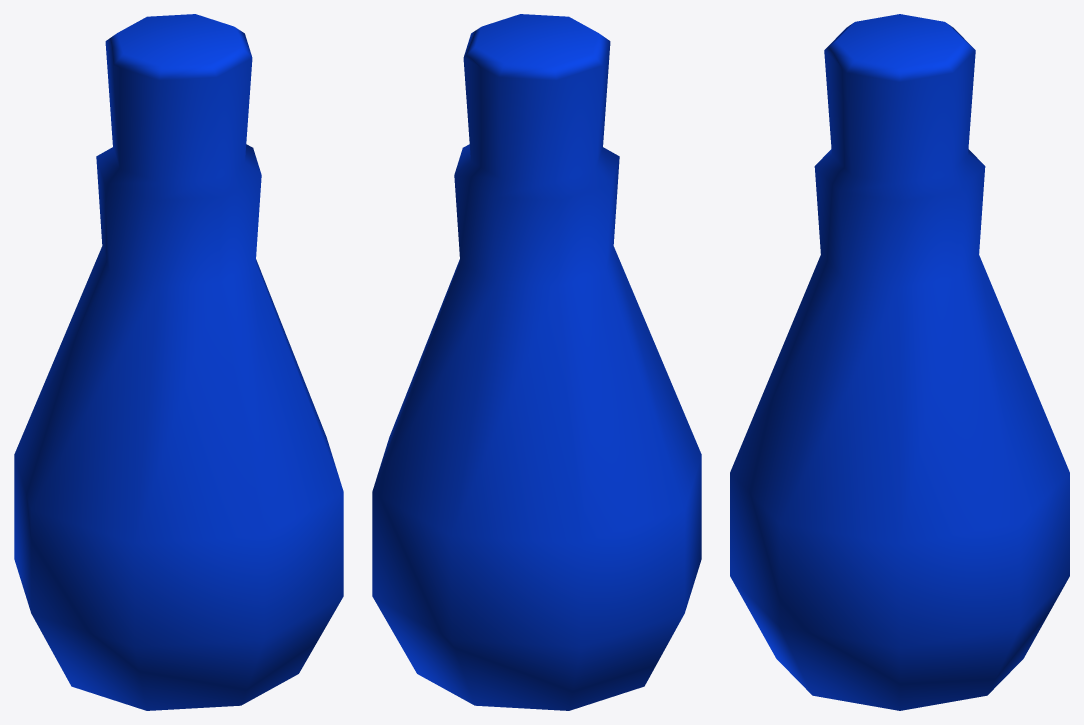
The model's file is Potion_04.fbx.
3 renders of one model, left to right at view 1: azimuth 30°, elevation 25°; view 2: azimuth 150°, elevation 25°; view 3: azimuth 270°, elevation 25°, orthographic.
Parts seen in each view (by area): view 1: Potion_04; view 2: Potion_04; view 3: Potion_04.
Part boxes in pixels (x1,y1,x2,y2): Potion_04: [14, 14, 343, 710]; Potion_04: [372, 14, 701, 710]; Potion_04: [730, 14, 1069, 710].
Bounding box in the file's own units: 13.84 × 27.76 × 13.84.
